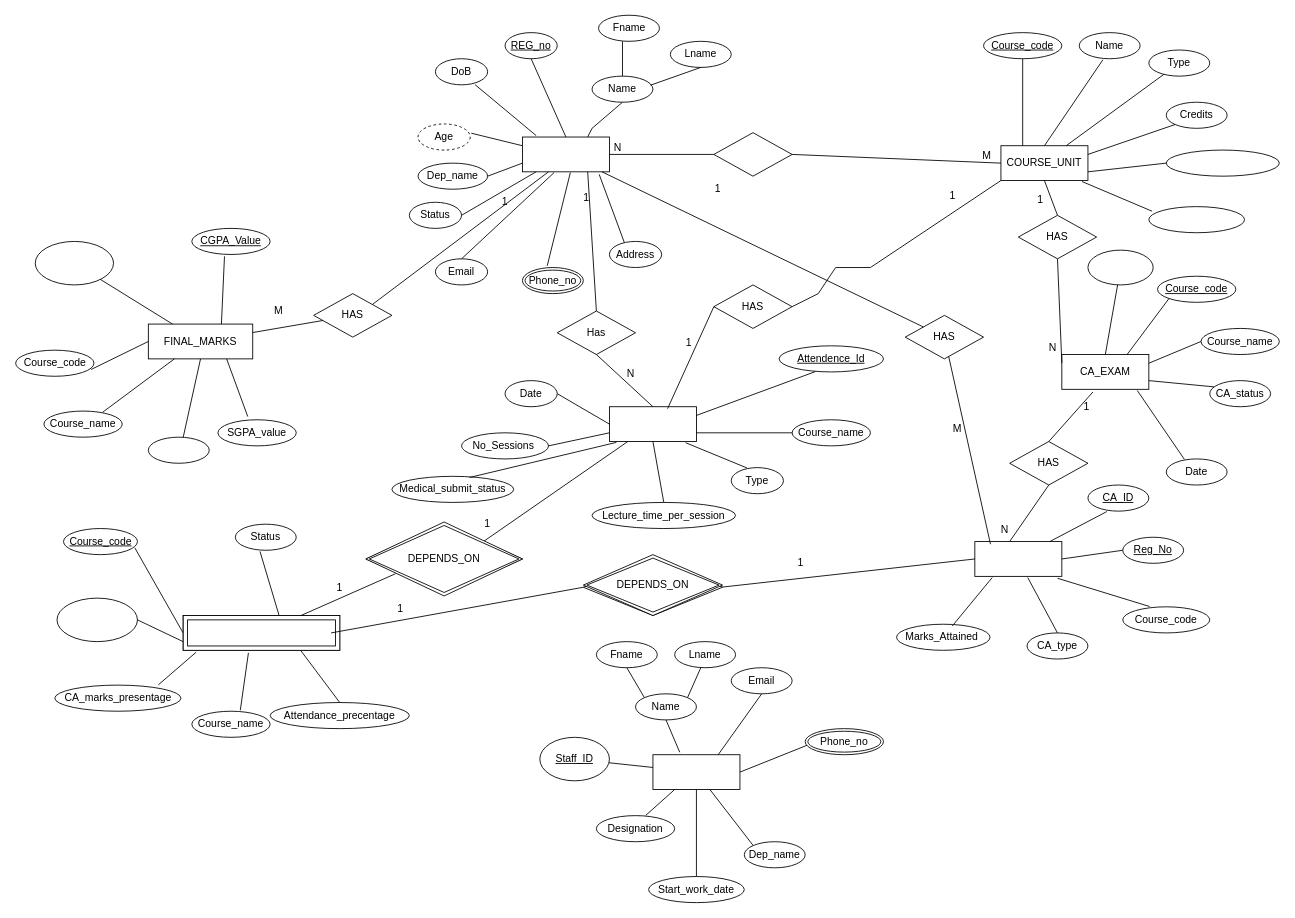
The diagram is 1295 pixels wide and 918 high, and some of its shapes have lost their labels. Here are the shapes that lost their labels. From the top down, the centre of each, then its label:
At [565,154]: "STUDENT".
At [752,154]: "Enrolls".
At [1222,162]: "Lecturer_in_charge".
At [1196,219]: "Lecture_hours".
At [74,263]: "Final_marks_ID".
At [1120,267]: "CA_Number".
At [652,424]: "ATTENDENCE".
At [178,449]: "Grade".
At [1018,558]: "CA_MARKS".
At [96,619]: "Eligibility_ID".
At [261,632]: "FINAL_EXAM_SIT_STATUS".
At [696,772]: "STAFF".
